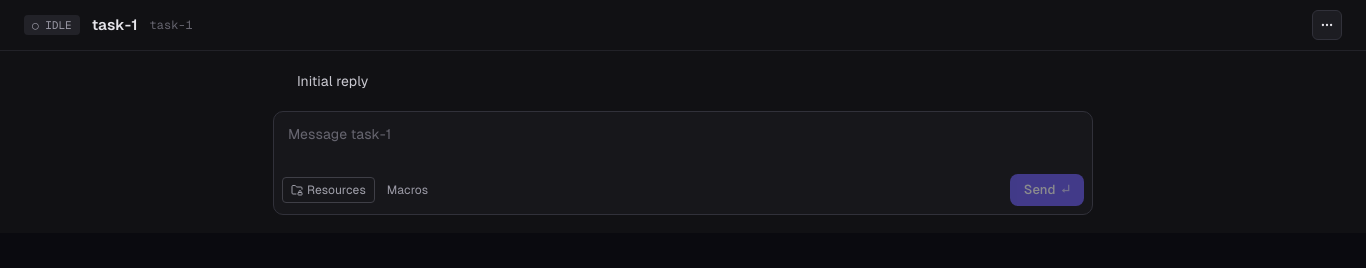
Test case: NativeAgentPanel › refreshes from snapshot from the overflow menu and retains content on failure
The image size is (1366, 268).
Expected: the text "Initial reply" is shown, [297, 71, 368, 91]
Click the button titled "More actions".
click(1327, 25)  # box [1312, 10, 1342, 40]
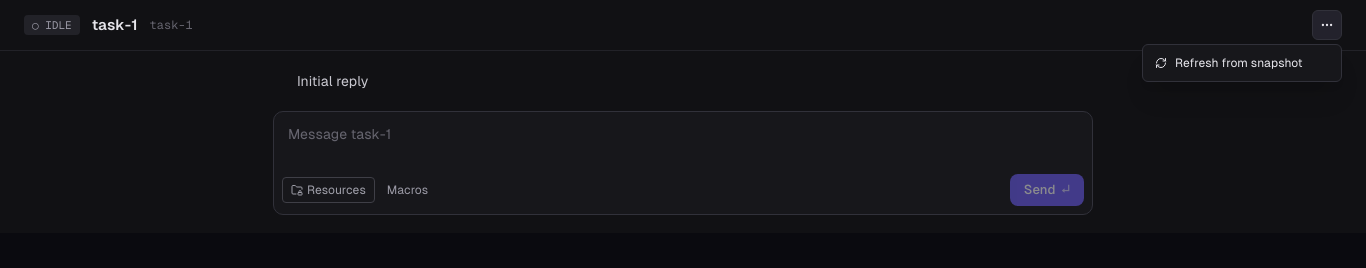
Click the menu item "Refresh from snapshot".
click(1242, 63)  # box [1143, 49, 1341, 77]
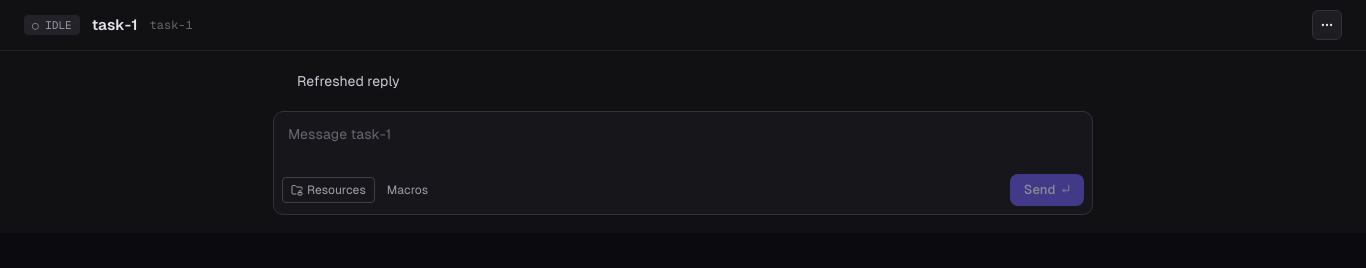
Expected: the text "Refreshed reply" is shown, [297, 71, 400, 91]
Click the button titled "More actions".
click(1327, 25)  # box [1312, 10, 1342, 40]
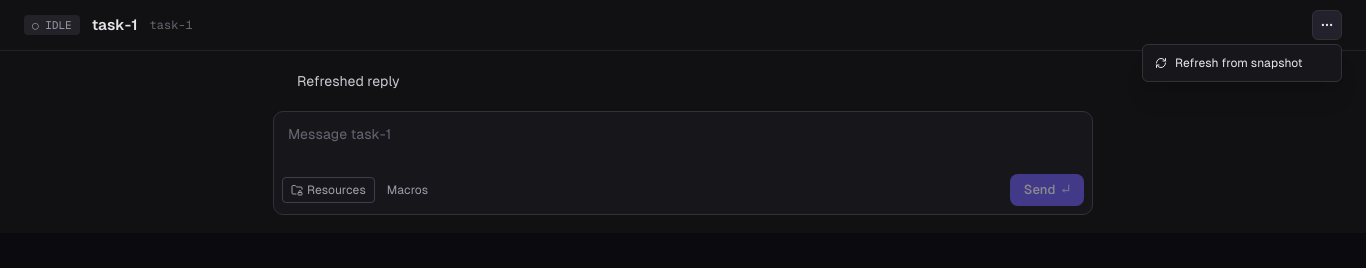
Click the menu item "Refresh from snapshot".
click(1242, 63)  # box [1143, 49, 1341, 77]
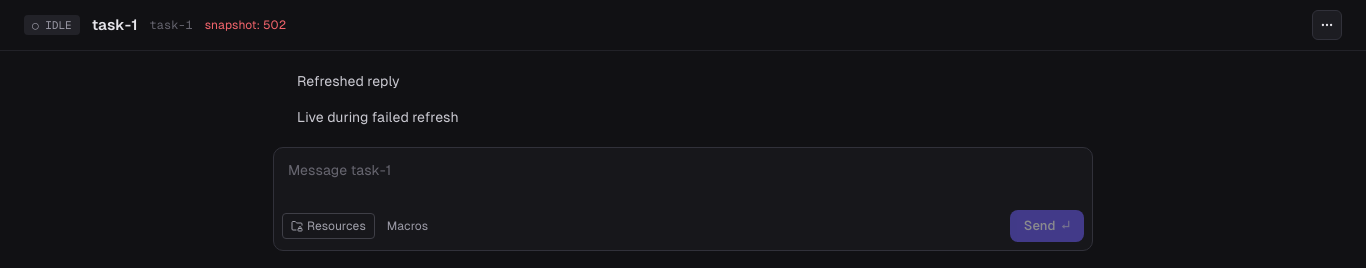
Expected: the text "Refreshed reply" is shown, [297, 71, 400, 91]
Expected: the text "snapshot: 502" is shown, [205, 17, 286, 33]
Expected: the text "Live during failed refresh" is shown, [297, 107, 459, 127]
